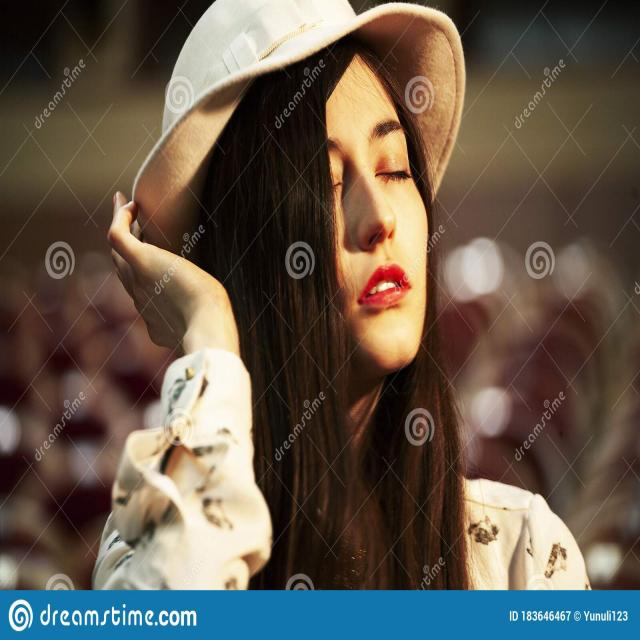hat: (130, 1, 459, 382)
